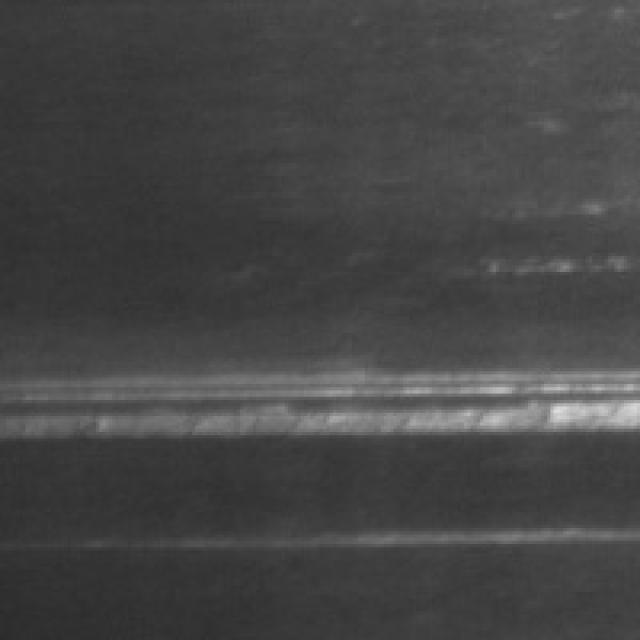scratches: (19, 352, 640, 442), (77, 506, 640, 550)
